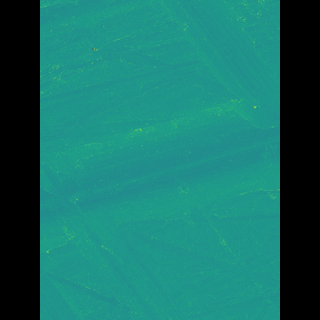Loch: (68, 145, 179, 319), (155, 0, 251, 124)
